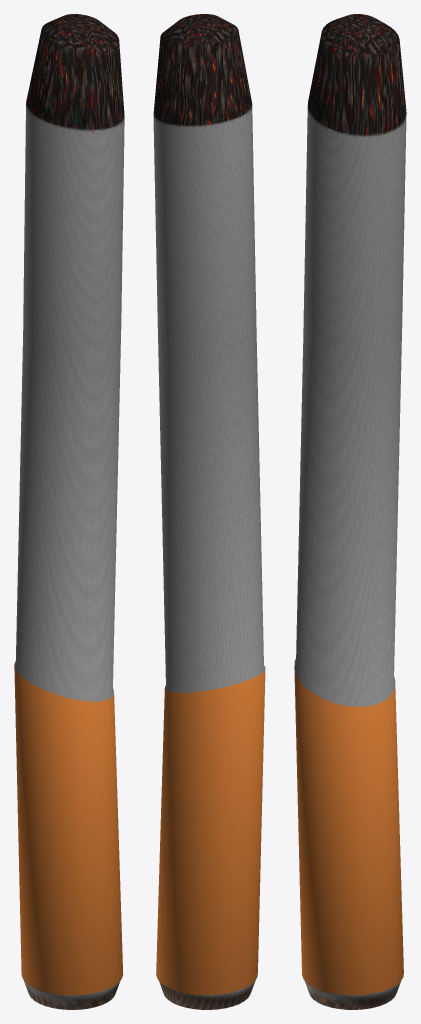
Rendered from cigarrito.fbx.
3 views of the same model, side by side, from view 1: azimuth 30°, elevation 25°; view 2: azimuth 150°, elevation 25°; view 3: azimuth 330°, elevation 25° (orthographic).
Parts seen in each view (by area): view 1: cigarrito; view 2: cigarrito; view 3: cigarrito.
Boxes of the visible parts, bbox=[...] form: cigarrito: bbox=[14, 14, 124, 1009]; cigarrito: bbox=[153, 14, 265, 1009]; cigarrito: bbox=[294, 14, 406, 1009].
Bounding box in the file's own units: 3.63 × 34.41 × 3.28.
